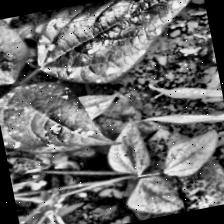Bean Rust: (28, 0, 216, 93), (0, 67, 124, 165), (0, 16, 31, 88)
